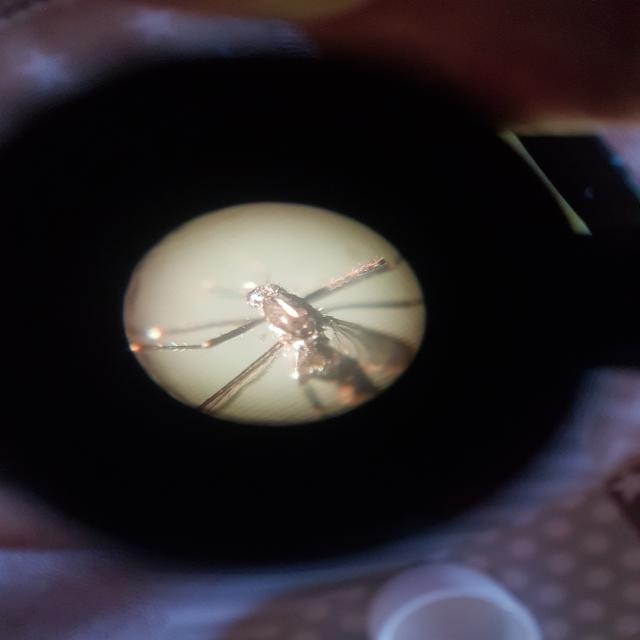albopictus: (144, 255, 402, 408)
